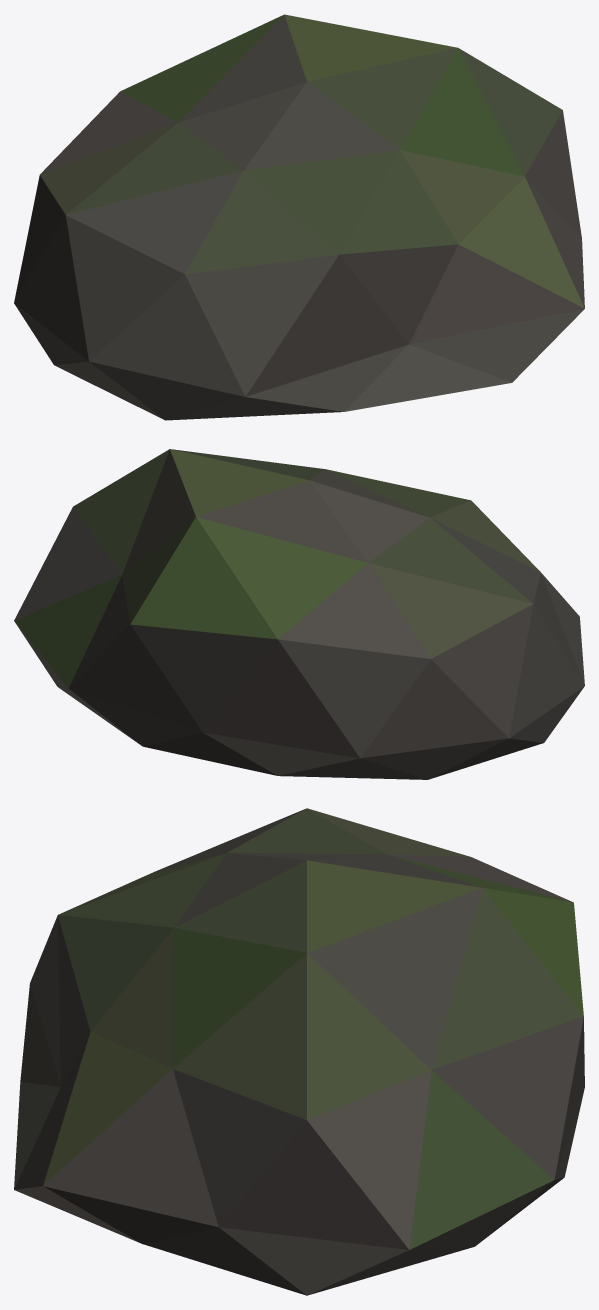
The model's file is env_basalt_c.glb.
The picture shows the model from 3 angles, top to bottom: view 1: azimuth 30°, elevation 25°; view 2: azimuth 150°, elevation 25°; view 3: azimuth 270°, elevation 25°; orthographic projection. The views are drawn at different scales.
Visible parts, largest first — view 1: env_basalt_c; view 2: env_basalt_c; view 3: env_basalt_c.
Part boxes in pixels (x1,y1,x2,y2): env_basalt_c: [14, 14, 584, 420]; env_basalt_c: [14, 449, 584, 779]; env_basalt_c: [14, 808, 584, 1295].
Bounding box in the file's own units: 4.27 × 1.95 × 3.28.
